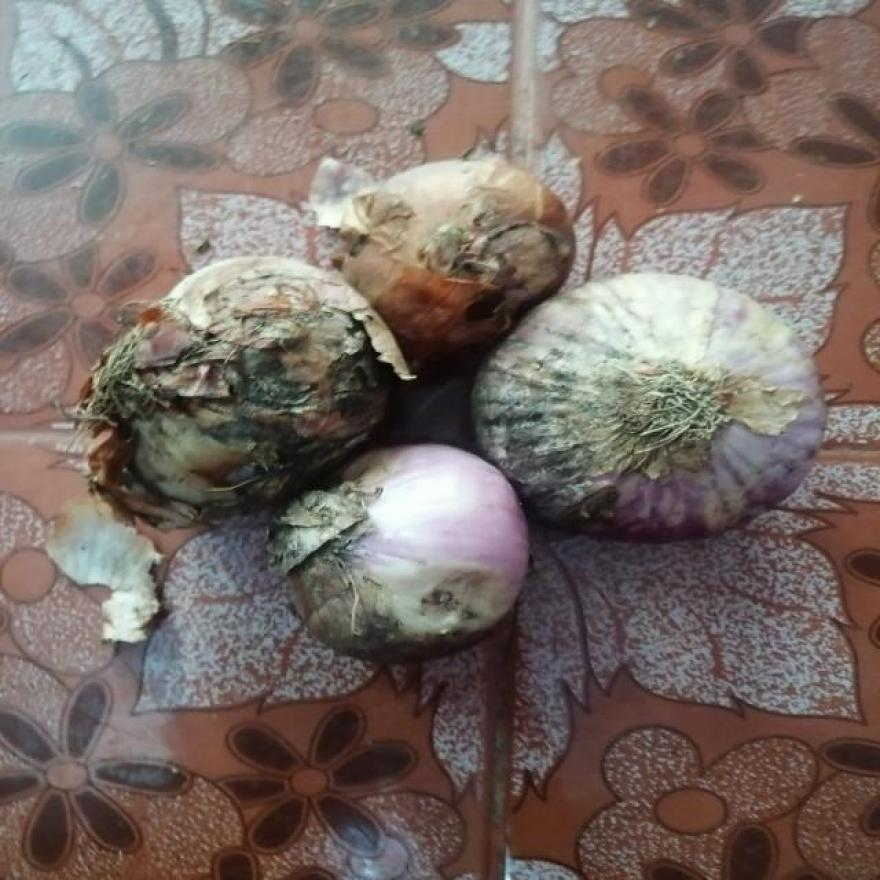Rotten: (109, 349, 293, 495), (452, 354, 603, 498), (324, 575, 460, 647), (308, 212, 421, 262)
